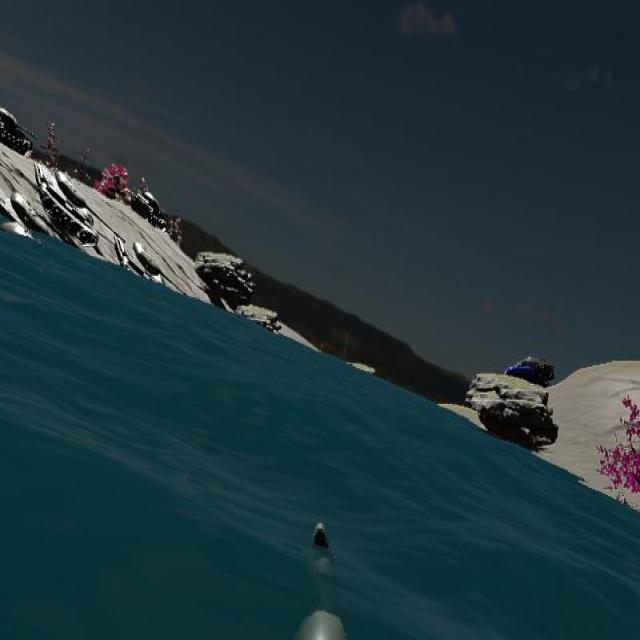Tank: (33, 161, 126, 262), (0, 121, 53, 238), (0, 100, 38, 157), (129, 186, 170, 233)
